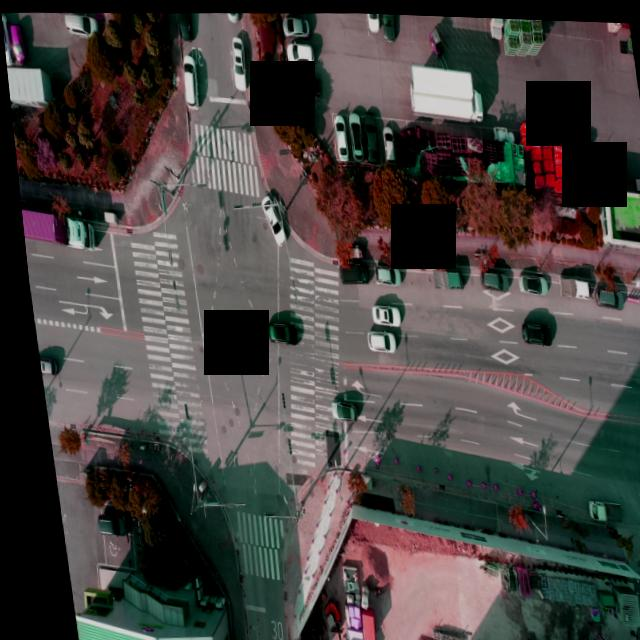car: (255, 191, 281, 243), (178, 52, 198, 107), (357, 108, 377, 159), (61, 10, 97, 37), (228, 34, 246, 87), (258, 317, 293, 343), (332, 257, 367, 283), (85, 511, 119, 537), (345, 108, 363, 156), (287, 66, 320, 92), (513, 313, 546, 339), (511, 267, 544, 293), (475, 264, 506, 290), (8, 22, 27, 63), (329, 109, 345, 156), (358, 325, 389, 349), (586, 280, 617, 304), (364, 300, 394, 324), (367, 260, 397, 284), (320, 393, 349, 417), (284, 37, 312, 61), (283, 10, 309, 32), (175, 10, 191, 40), (30, 354, 51, 376), (379, 123, 392, 158), (1, 11, 9, 63), (381, 11, 395, 37), (366, 11, 380, 27)
large_truck: (16, 201, 91, 250)
medium_truck: (400, 57, 481, 118), (511, 632, 551, 640)
small_truck: (421, 263, 459, 289), (551, 268, 586, 296), (575, 493, 610, 517)
